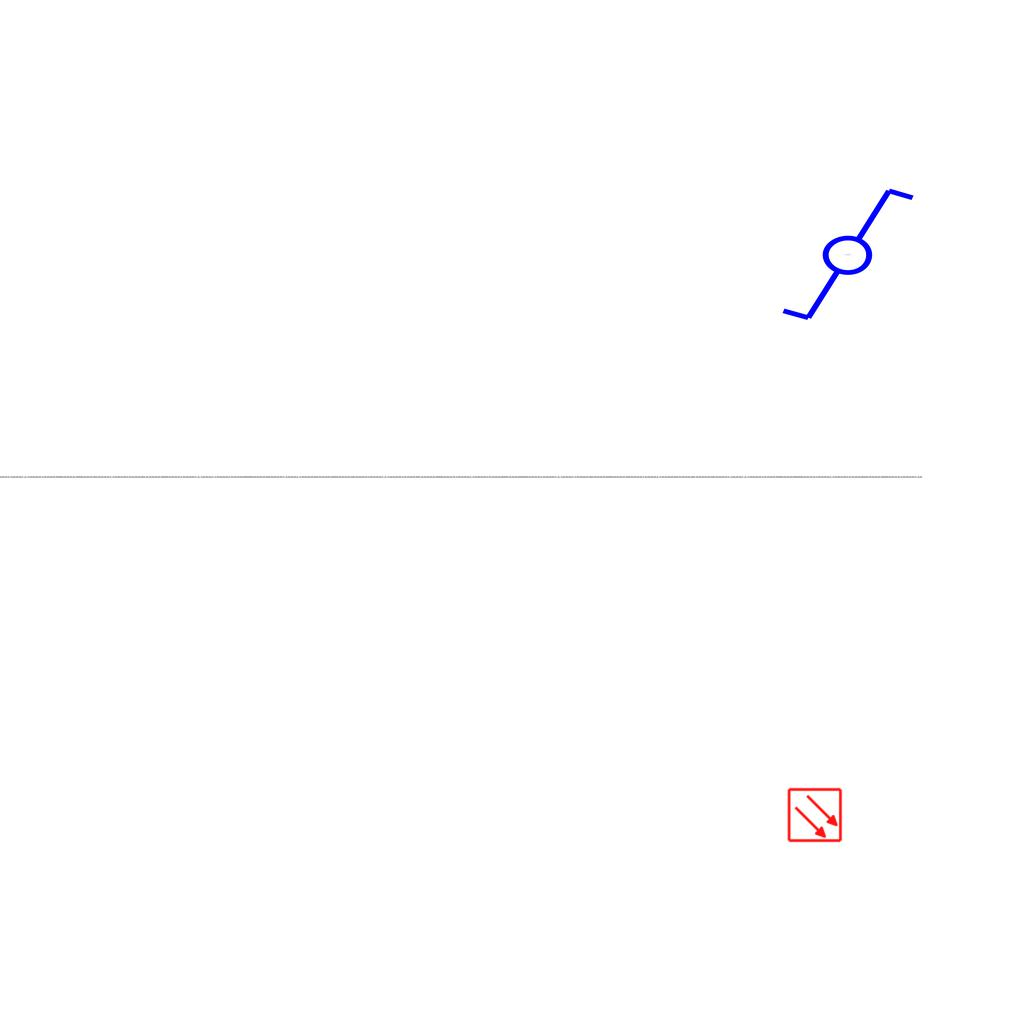RMO_Rauchmelder_optischer: (787, 787, 843, 843)
Wechselschalter: (761, 181, 918, 325)
